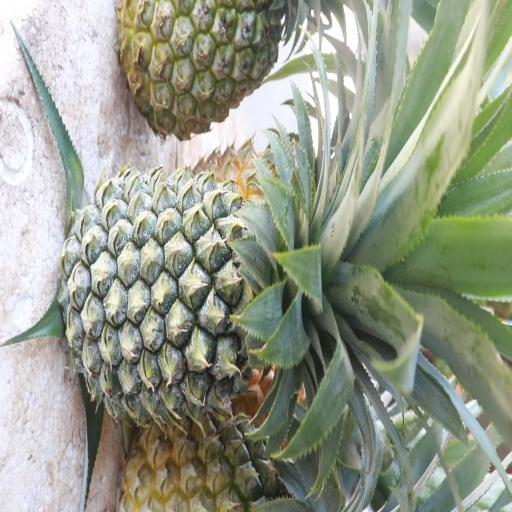------------------------------: (118, 0, 292, 146), (124, 412, 290, 512)
